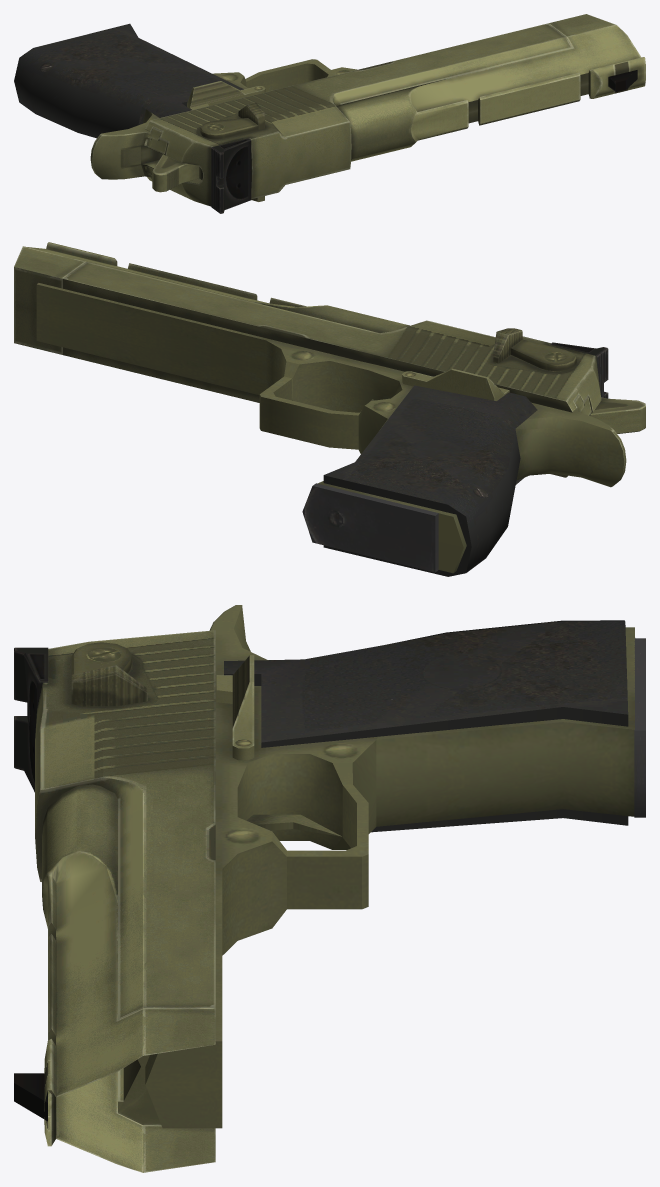
File: viewmodel_desert_eagle_gold_mp_LOD0.obj
3 views of the same model, one above another, from view 1: azimuth 30°, elevation 25°; view 2: azimuth 150°, elevation 25°; view 3: azimuth 270°, elevation 25° (orthographic). The views are drawn at different scales.
Parts seen in each view (by area): view 1: mtl_weapon_desert_eagle_gold; view 2: mtl_weapon_desert_eagle_gold; view 3: mtl_weapon_desert_eagle_gold.
Part boxes in pixels (x1,y1,x2,y2): mtl_weapon_desert_eagle_gold: (14,14,645,213); mtl_weapon_desert_eagle_gold: (14,242,645,576); mtl_weapon_desert_eagle_gold: (14,605,645,1172).
Size of the model in its own units: 29.57 by 5.27 by 16.46.
1 material, 1 textured.
